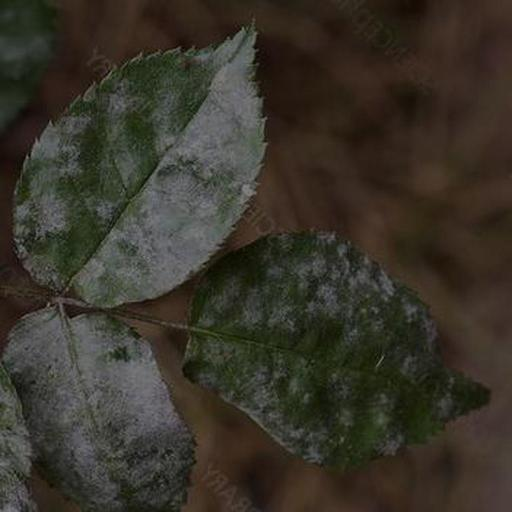powdery_mildew: (184, 233, 489, 468), (14, 26, 264, 306), (4, 306, 194, 512)
